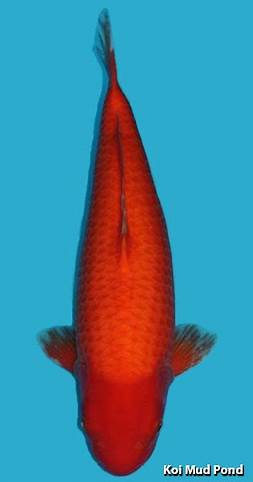red: (37, 9, 216, 476)
